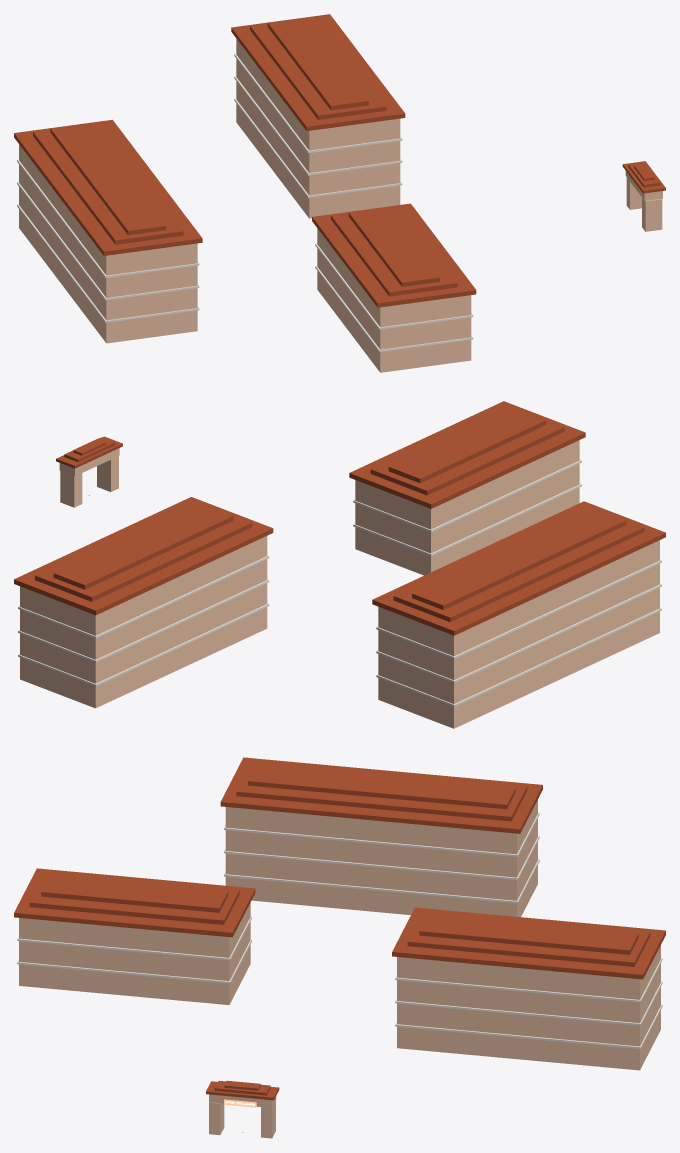
File: divivillage_arch.glb
3 views of the same model, one above another, from view 1: azimuth 30°, elevation 25°; view 2: azimuth 150°, elevation 25°; view 3: azimuth 270°, elevation 25° (orthographic). The views are drawn at different scales.
Parts seen in each view (by area): view 1: divivillage_arch_lod0; view 2: divivillage_arch_lod0; view 3: divivillage_arch_lod0.
Boxes of the visible parts, x1=… form: divivillage_arch_lod0: x1=14, y1=14, x2=665, y2=372; divivillage_arch_lod0: x1=14, y1=401, x2=665, y2=728; divivillage_arch_lod0: x1=14, y1=757, x2=665, y2=1138.
Size of what is drawn, in the model's own units: 80.62 by 14.9 by 78.69.
6 materials, 1 textured.
